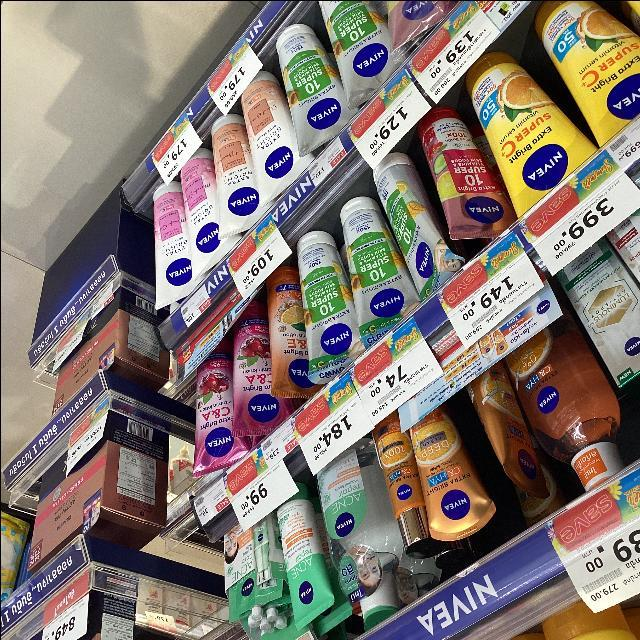Squeeze Tube: (140, 0, 637, 530)
